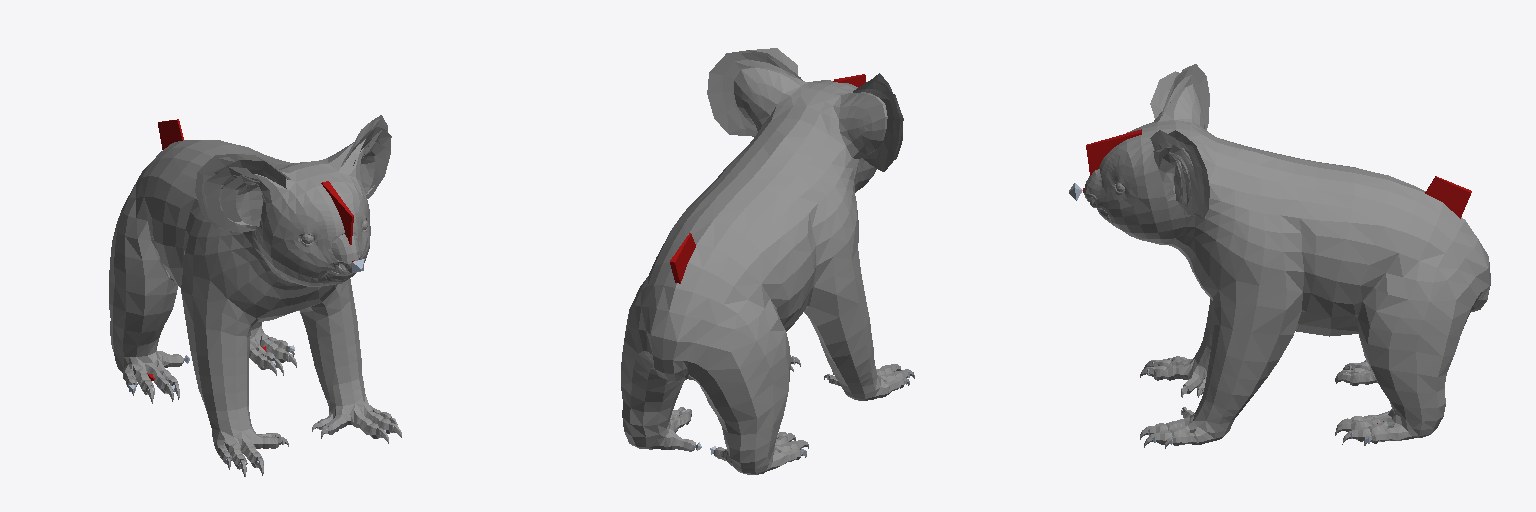
Rendered from koala.obj.
The picture shows the model from 3 angles: view 1: azimuth 30°, elevation 25°; view 2: azimuth 150°, elevation 25°; view 3: azimuth 270°, elevation 25°; orthographic projection.
Parts seen in each view (by area): view 1: Koala, Koala_Fur_Ear, Bone006, Bone001; view 2: Koala, Koala_Fur_Ear, Bone001; view 3: Koala, Koala_Fur_Ear, Bone001, Bone006.
Part boxes in pixels (x1,y1,x2,y2): Koala: (109, 139, 401, 476); Koala_Fur_Ear: (195, 115, 391, 232); Bone006: (321, 181, 354, 261); Bone001: (158, 119, 183, 149); Koala: (621, 67, 914, 474); Koala_Fur_Ear: (707, 48, 903, 171); Bone001: (670, 233, 695, 283); Koala: (1084, 84, 1490, 448); Koala_Fur_Ear: (1150, 64, 1209, 218); Bone001: (1425, 176, 1471, 218); Bone006: (1083, 129, 1141, 192).
Size of the model in its own units: 12.61 by 19.37 by 24.09.